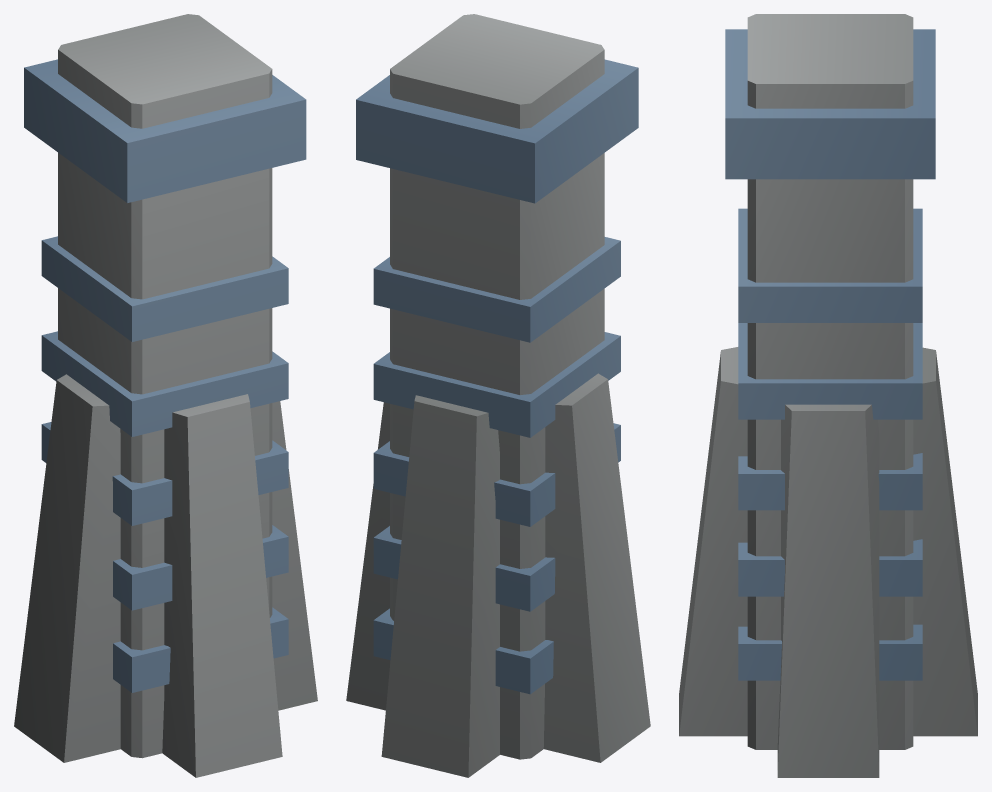
Rendered from Cement_bollard.fbx.
The picture shows the model from 3 angles, left to right: view 1: azimuth 30°, elevation 25°; view 2: azimuth 150°, elevation 25°; view 3: azimuth 270°, elevation 25°; orthographic projection.
Visible parts, largest first — view 1: Cement_bollard; view 2: Cement_bollard; view 3: Cement_bollard.
Boxes of the visible parts, <box> form: Cement_bollard: <box>14,14,317,777</box>; Cement_bollard: <box>346,14,650,777</box>; Cement_bollard: <box>679,14,977,777</box>.
Size of the model in its own units: 238 by 586 by 238.
